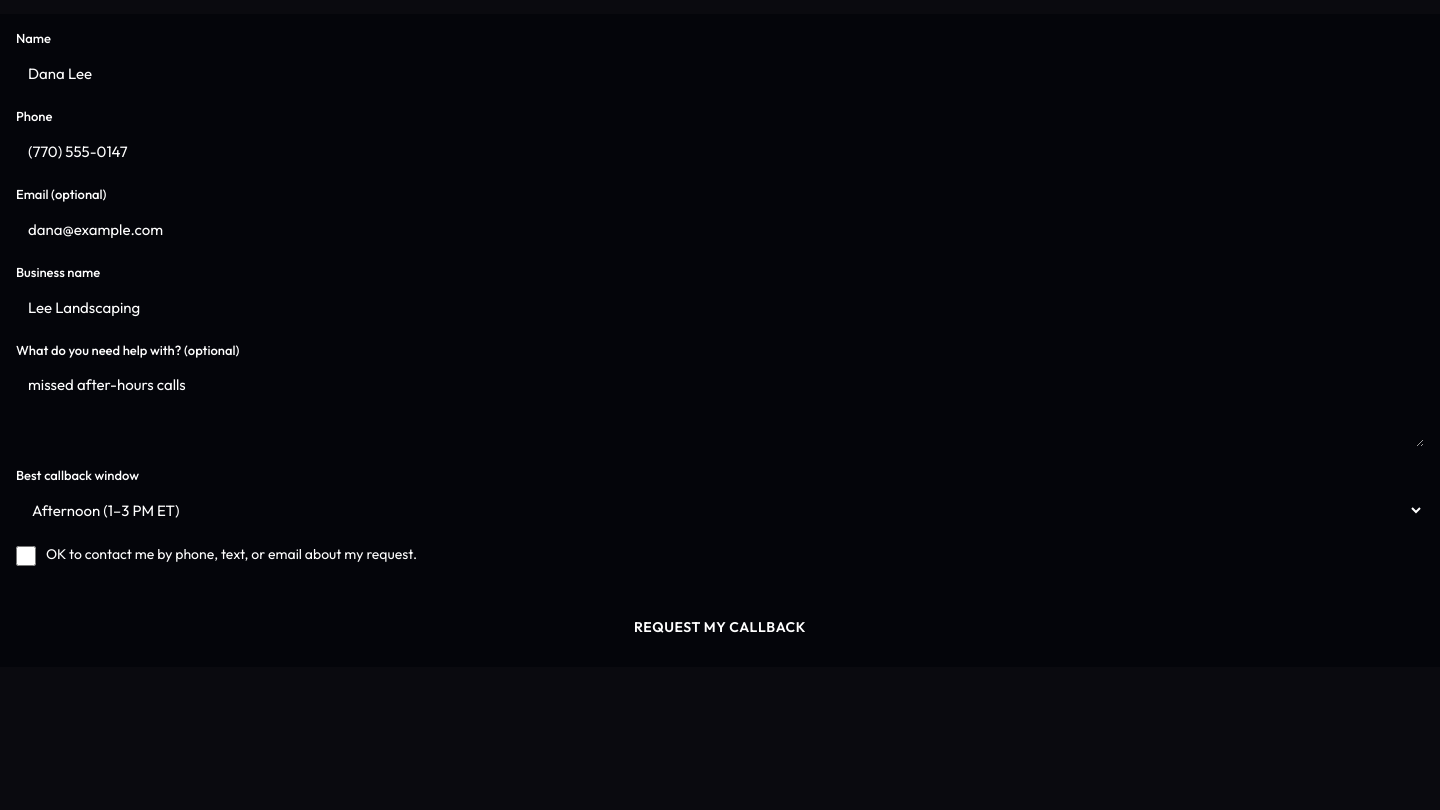
Test: LeadForm › pre-filled from the conversation (plan v1.1) › will not send until the visitor ticks the consent box themselves
This screenshot has width=1440, height=810.
Click the button "Request my callback" at x=720, y=627, box [16,603,1424,651]
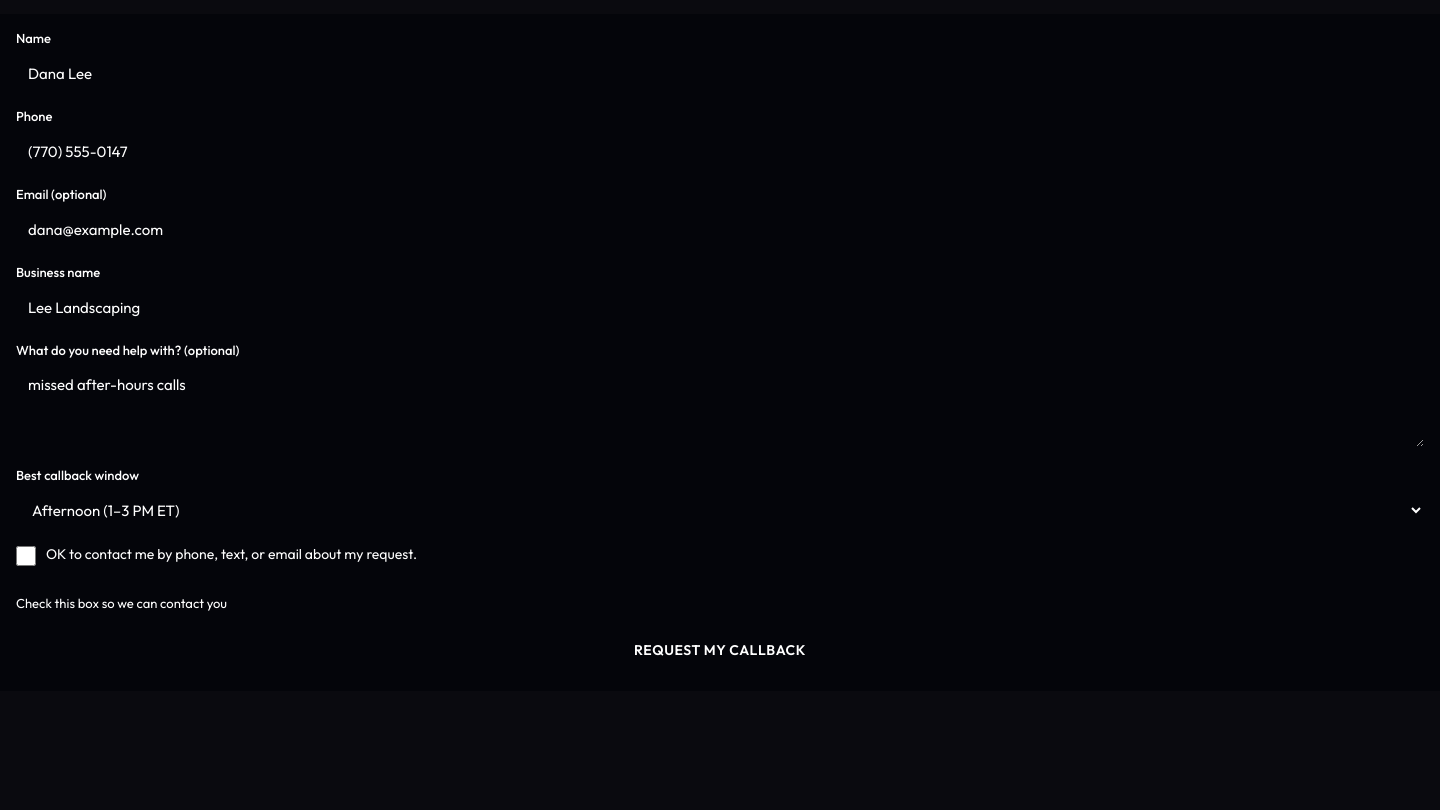
Expected: the text "Check this box so we can contact you" is shown, [16,595,227,611]
